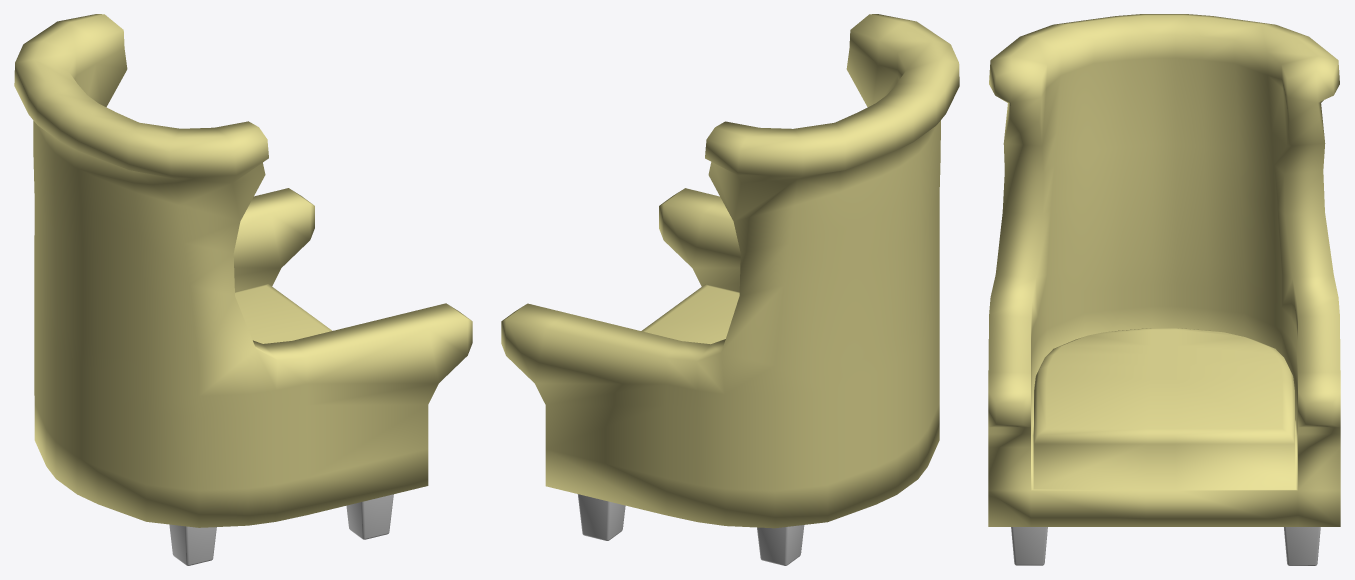
File: armchair.fbx
3 views of the same model, side by side, from view 1: azimuth 30°, elevation 25°; view 2: azimuth 150°, elevation 25°; view 3: azimuth 270°, elevation 25° (orthographic).
Visible parts, largest first — view 1: easyboyrecliner; view 2: easyboyrecliner; view 3: easyboyrecliner.
Part boxes in pixels (x1,y1,x2,y2): easyboyrecliner: [14, 14, 472, 565]; easyboyrecliner: [501, 14, 959, 565]; easyboyrecliner: [988, 14, 1340, 565].
Size of the model in its own units: 113 by 140 by 103.
